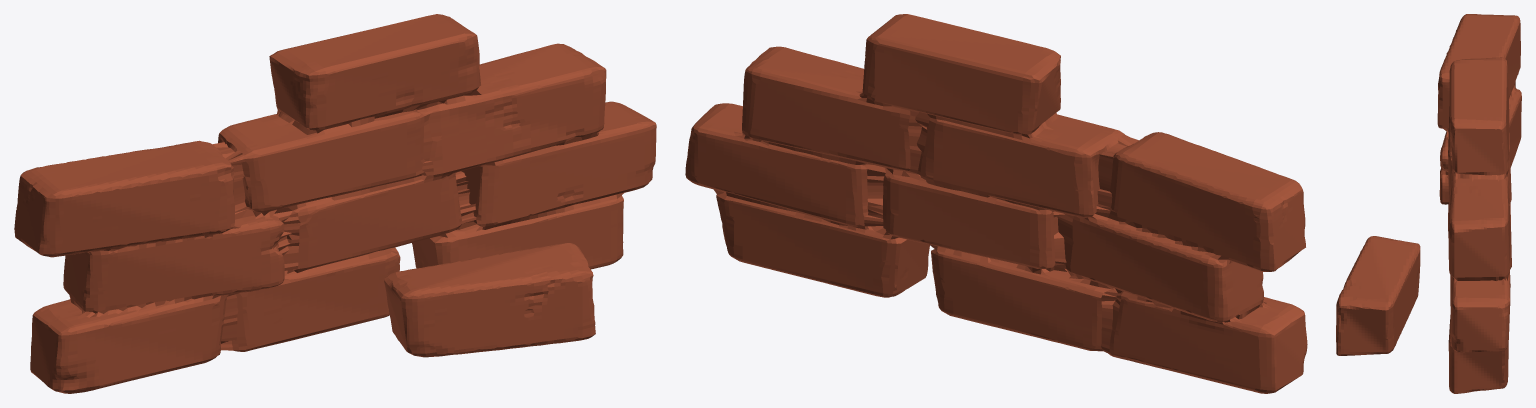
File: brick_wall_low2.fbx
3 views of the same model, side by side, from view 1: azimuth 30°, elevation 25°; view 2: azimuth 150°, elevation 25°; view 3: azimuth 270°, elevation 25° (orthographic). The views are drawn at different scales.
Parts seen in each view (by area): view 1: LP_brick; view 2: LP_brick; view 3: LP_brick.
Boxes of the visible parts, bbox=[...] form: LP_brick: bbox=[14, 14, 656, 393]; LP_brick: bbox=[685, 14, 1307, 393]; LP_brick: bbox=[1336, 14, 1521, 393].
Bounding box in the file's own units: 2506 × 1049 × 815.
